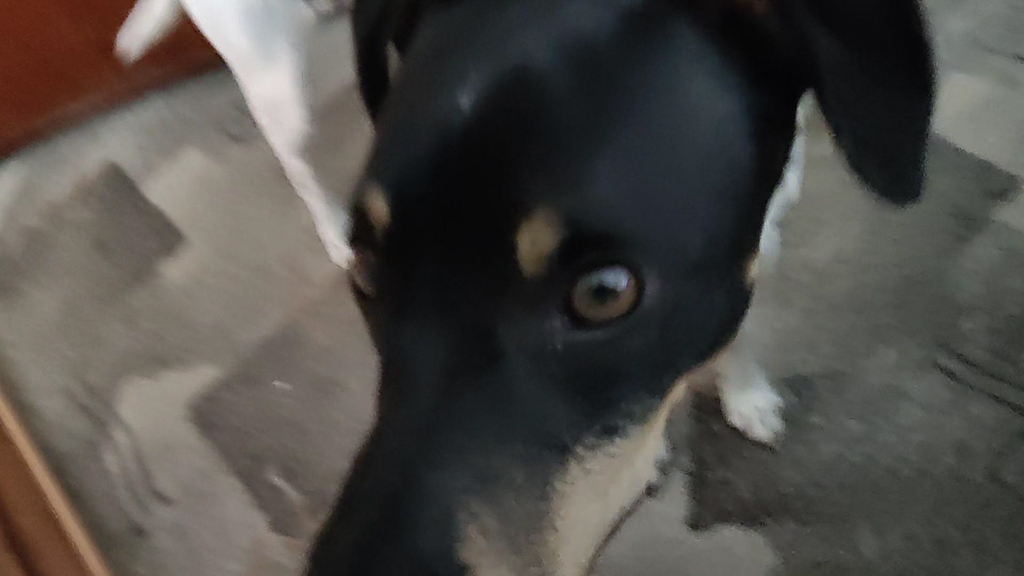Dog: (99, 0, 950, 576)
